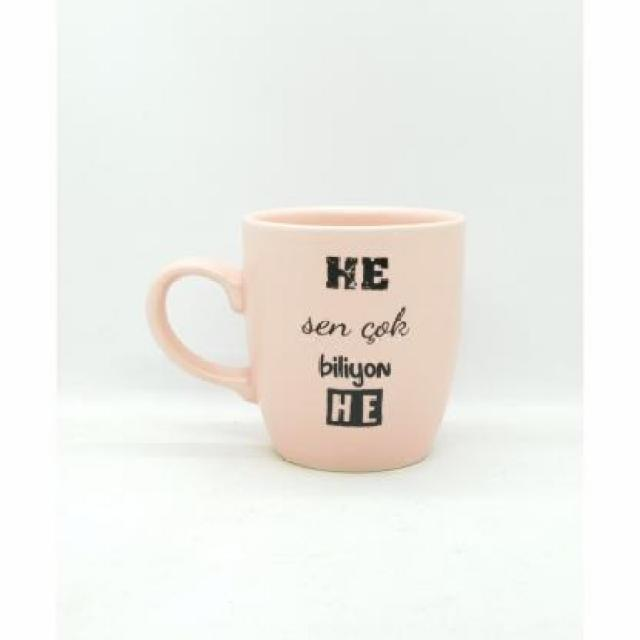taza: (134, 193, 469, 484)
